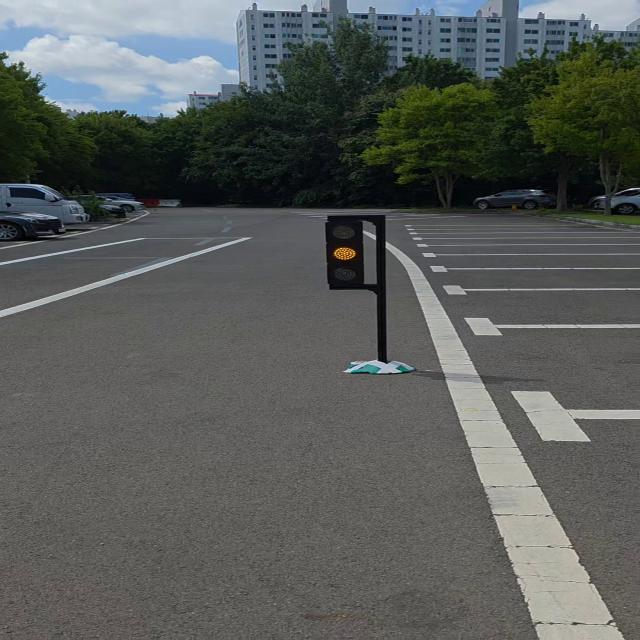yellow: (323, 211, 369, 288)
